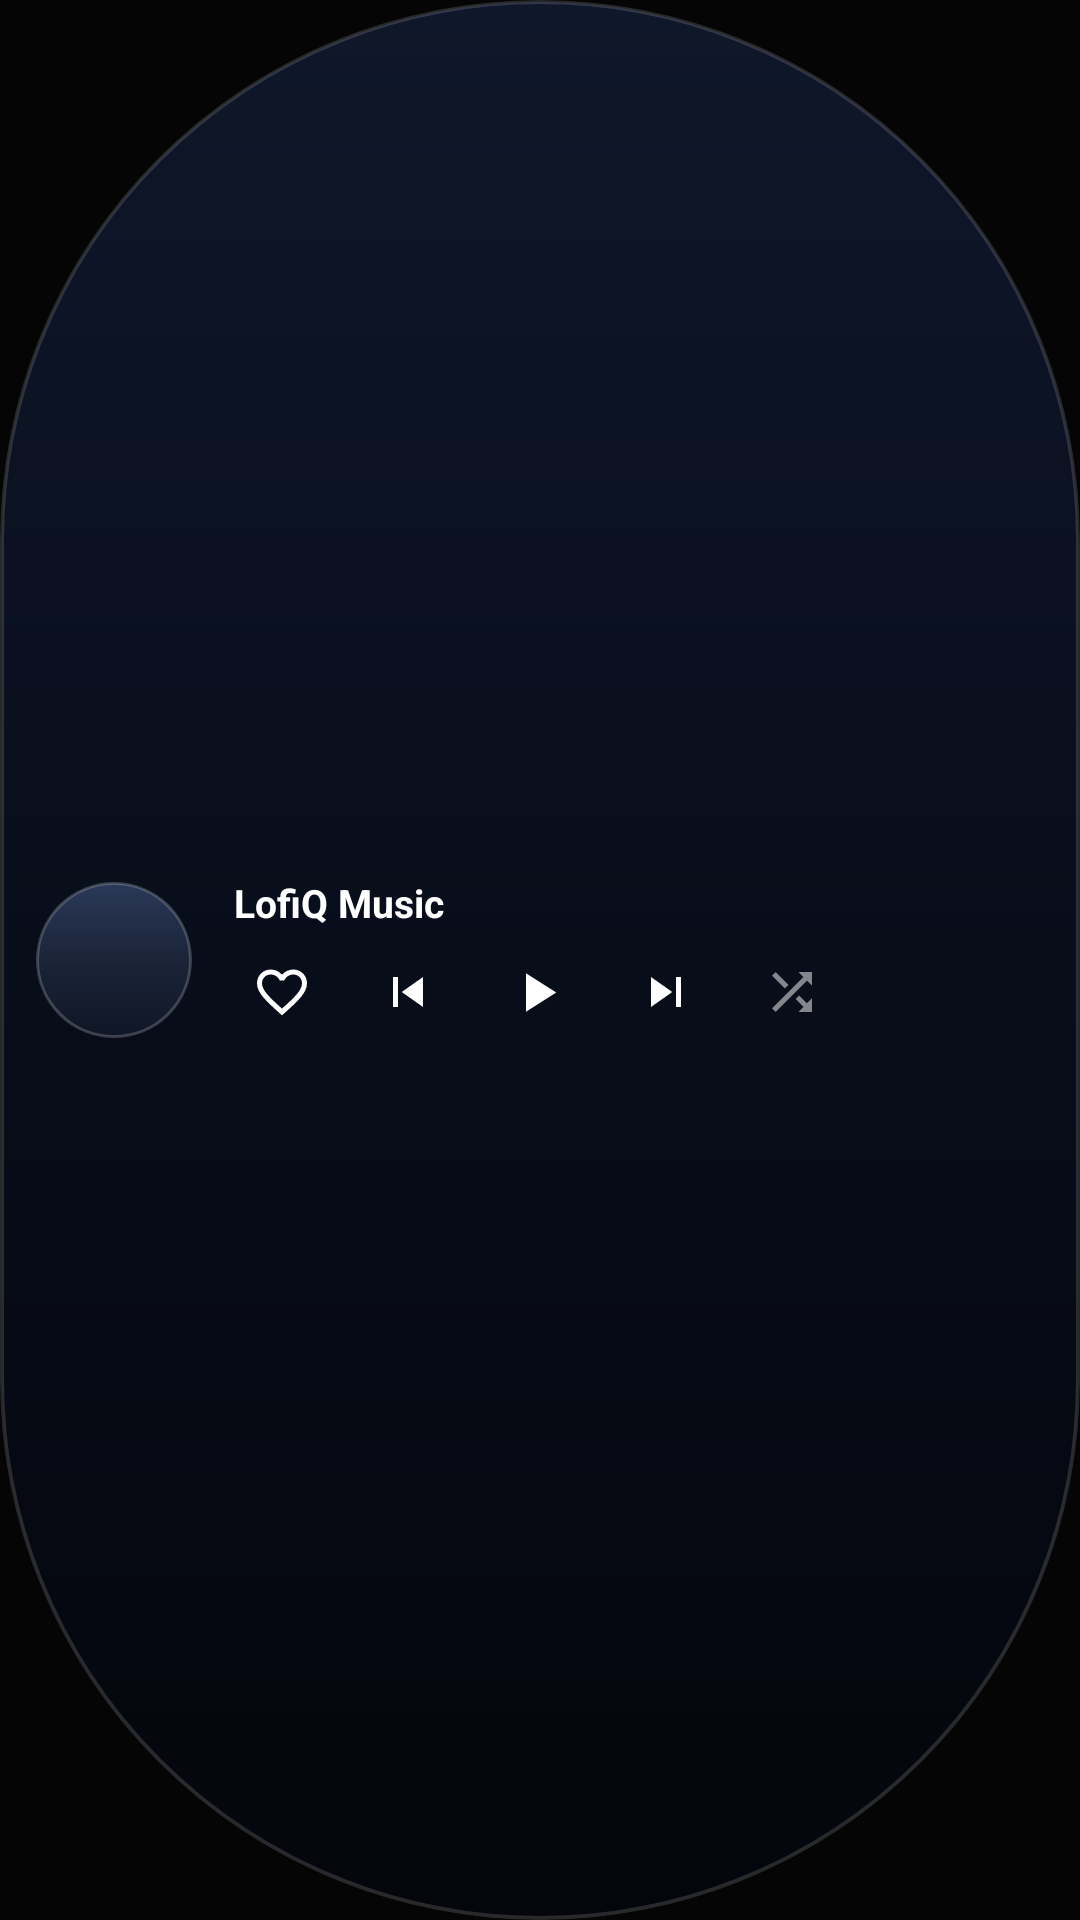

Named icons in this screenshot (1080*1920) and their bounding boxes, (x1, y1, x2, y2):
Favorite: (257, 969, 307, 1015)
Next Track: (651, 977, 681, 1007)
Play Pause: (526, 973, 556, 1012)
Previous Track: (393, 977, 423, 1007)
Shuffle: (772, 972, 812, 1012)
